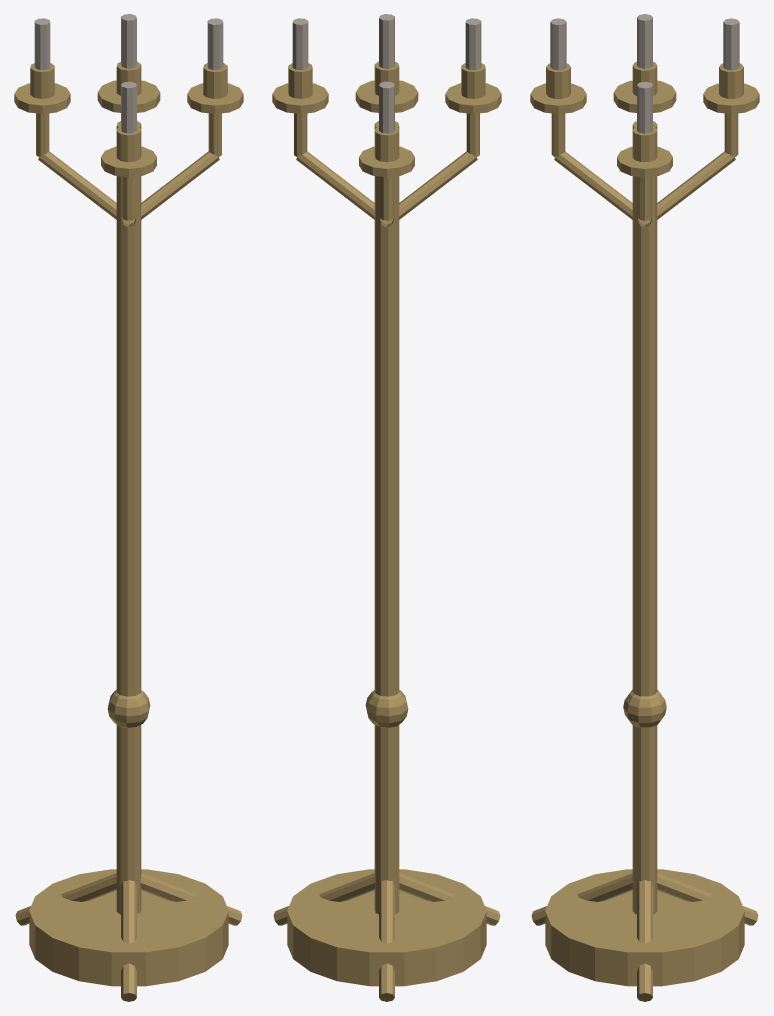
The picture shows the model from 3 angles, left to right: view 1: azimuth 30°, elevation 25°; view 2: azimuth 150°, elevation 25°; view 3: azimuth 270°, elevation 25°; orthographic projection.
Visible parts, largest first — view 1: candelabra; view 2: candelabra; view 3: candelabra.
Part boxes in pixels (left/top/right/bottom): candelabra: left=14, top=14, right=243, bottom=1001; candelabra: left=272, top=14, right=501, bottom=1001; candelabra: left=530, top=14, right=759, bottom=1001.
Size of the model in its own units: 0.3643 by 1.65 by 0.3671.
